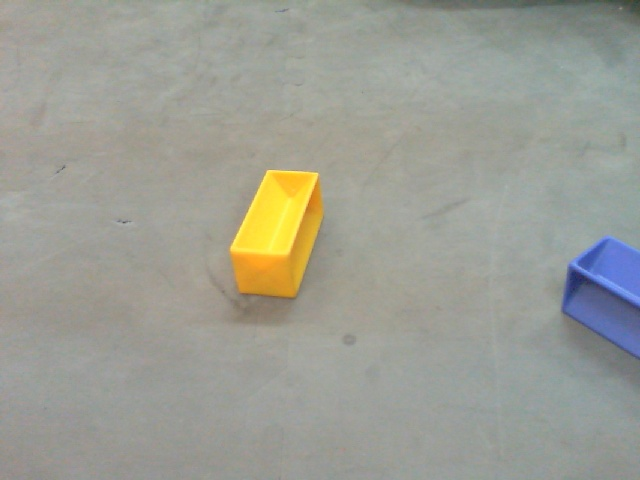BlueSample: (559, 233, 640, 361)
YellowSample: (227, 164, 327, 301)
